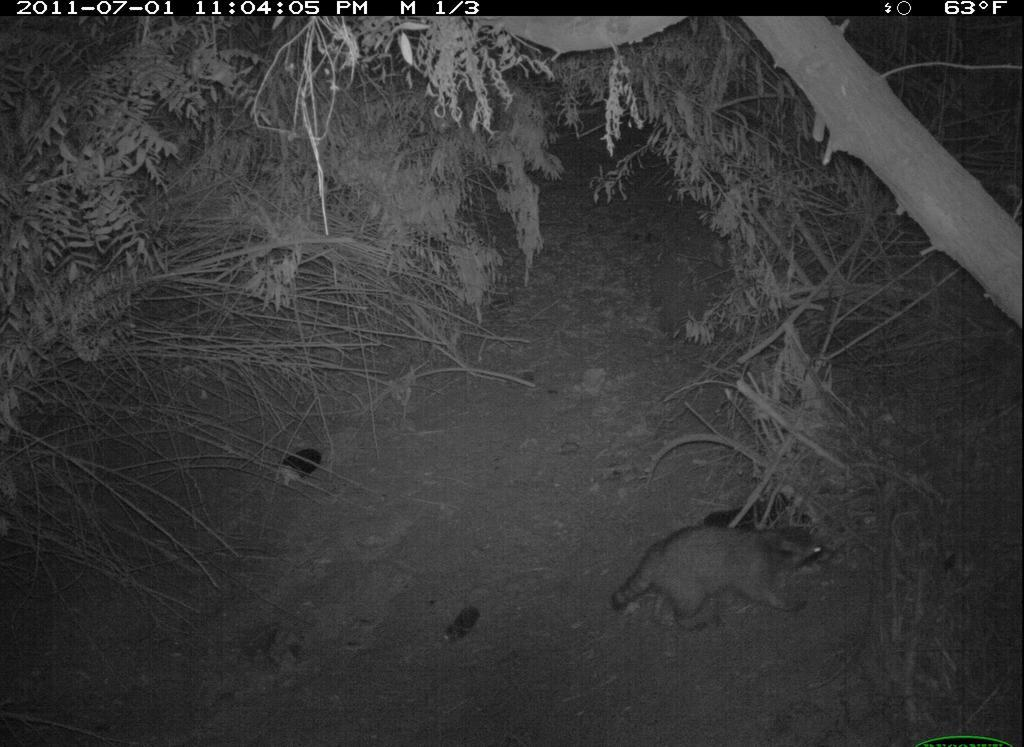raccoon: (610, 511, 830, 646)
